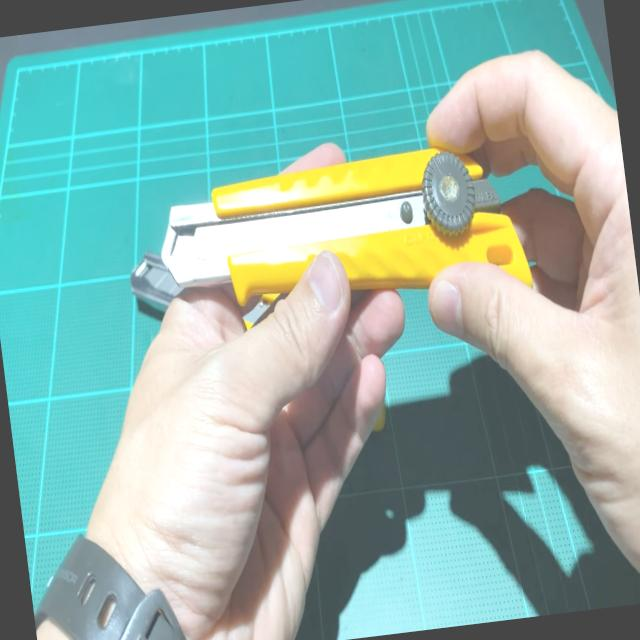cutter: (86, 20, 640, 468)
